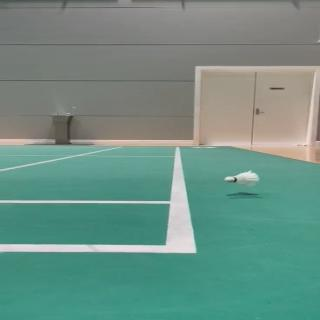Shuttle: (224, 170, 260, 187)
